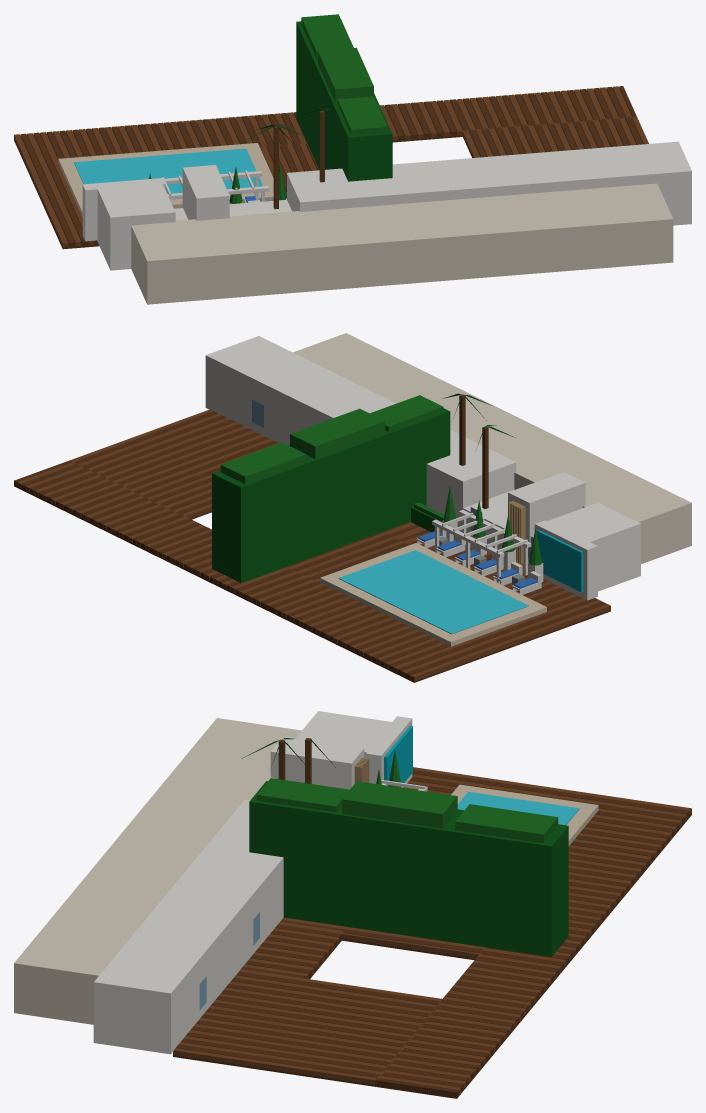
File: boutiqueart.glb
3 views of the same model, one above another, from view 1: azimuth 30°, elevation 25°; view 2: azimuth 150°, elevation 25°; view 3: azimuth 270°, elevation 25° (orthographic). The views are drawn at different scales.
Visible parts, largest first — view 1: boutiqueart_lod0; view 2: boutiqueart_lod0; view 3: boutiqueart_lod0.
Boxes of the visible parts, <box> form: boutiqueart_lod0: <box>14,14,691,304</box>; boutiqueart_lod0: <box>14,333,691,682</box>; boutiqueart_lod0: <box>14,711,691,1098</box>.
Size of what is drawn, in the model's own units: 47.67 by 10.1 by 41.9.
